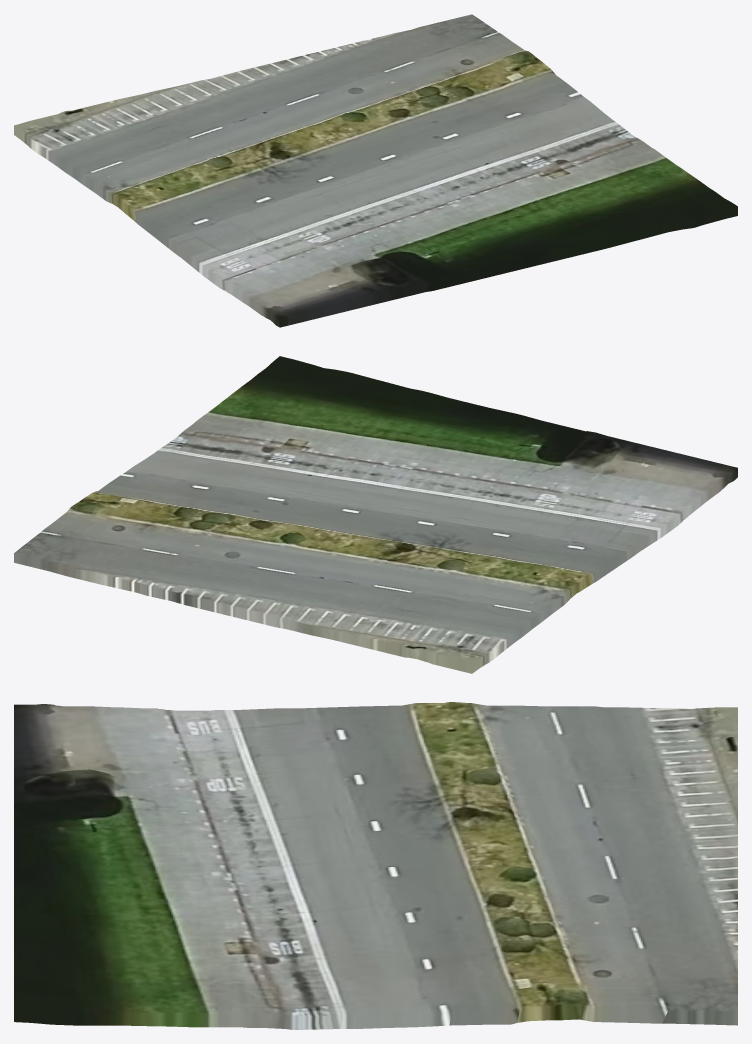
Rendered from z20-167781-405219-h0-yup-uvflip-v3-world.glb.
3 renders of one model, top to bottom at view 1: azimuth 30°, elevation 25°; view 2: azimuth 150°, elevation 25°; view 3: azimuth 270°, elevation 25°, orthographic. The views are drawn at different scales.
Size of the model in its own units: 30.16 by 1.2 by 30.32.
1 material, 1 textured.
